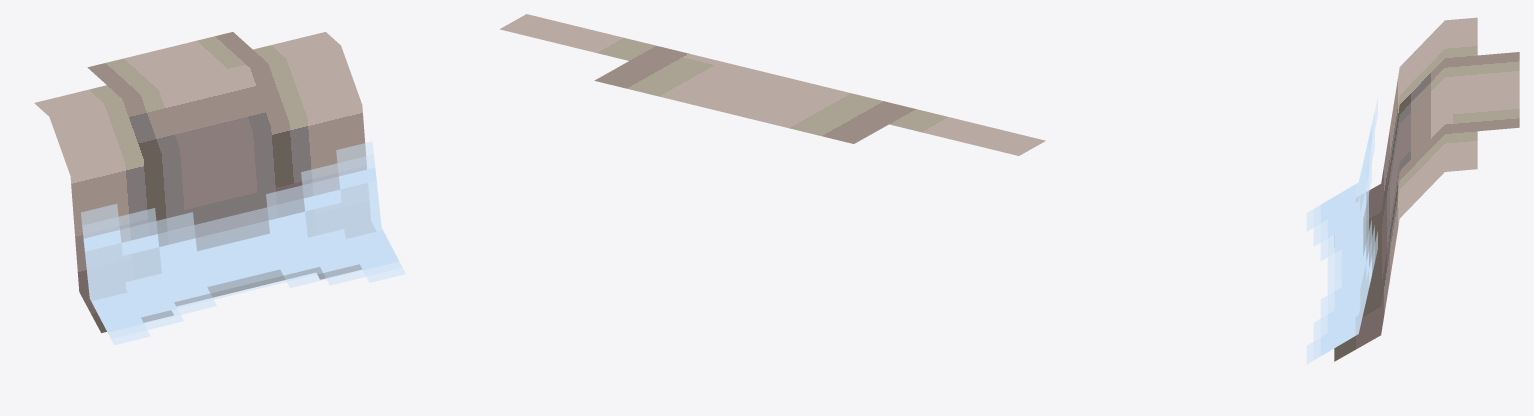
3 renders of one model, left to right at view 1: azimuth 30°, elevation 25°; view 2: azimuth 150°, elevation 25°; view 3: azimuth 270°, elevation 25°, orthographic. The views are drawn at different scales.
Bounding box in the file's own units: 1 × 0.7266 × 0.7695.
2 materials, 2 textured.
